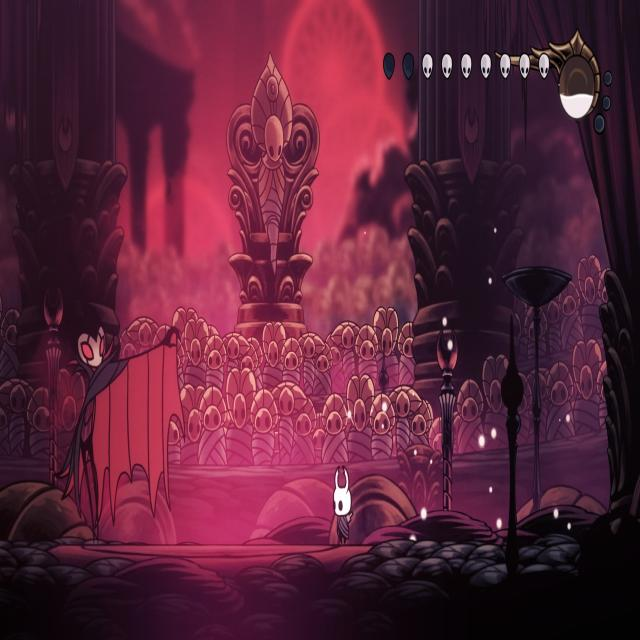Open Cloak: (53, 298, 184, 550)
Player: (330, 462, 356, 548)
